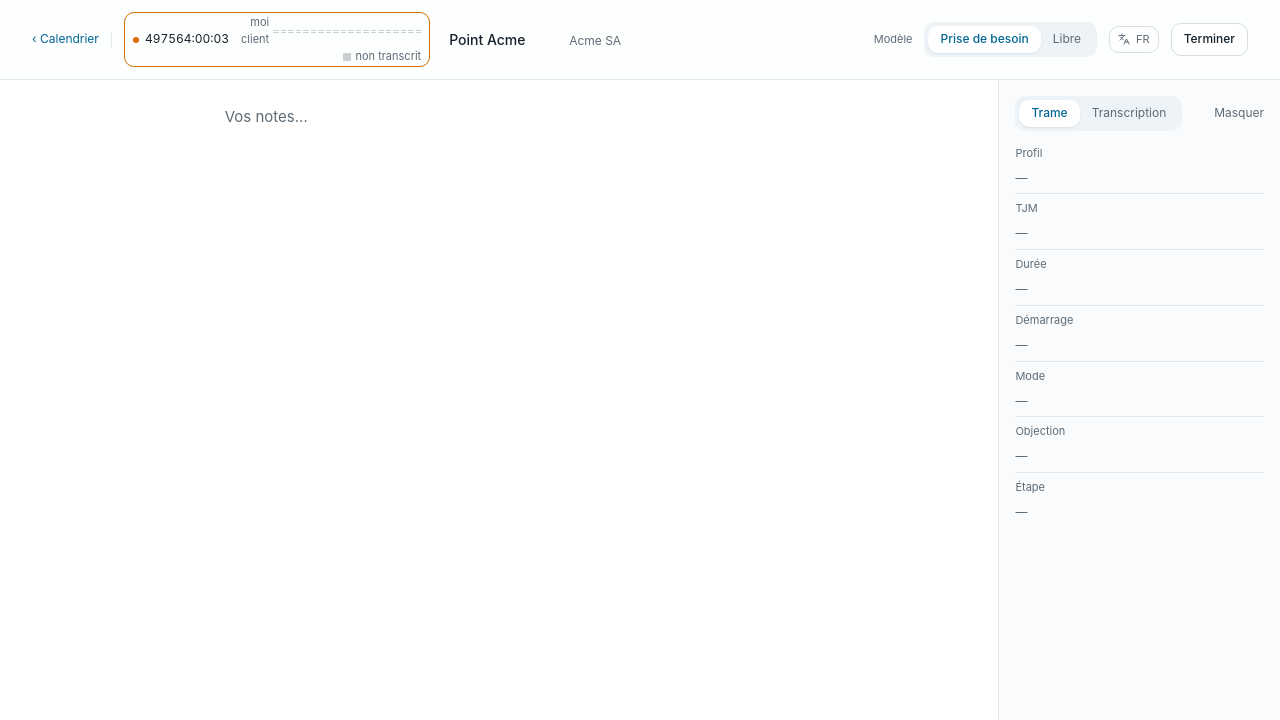
Test case: the column opens on the slate and the transcript is asked for › the promise the rep needs when they turn it on
Expected: the button "Terminer" is shown, [1171,23,1248,56]
Click the button "Transcription". click: (1129, 113)
box: [1080,100,1178,127]
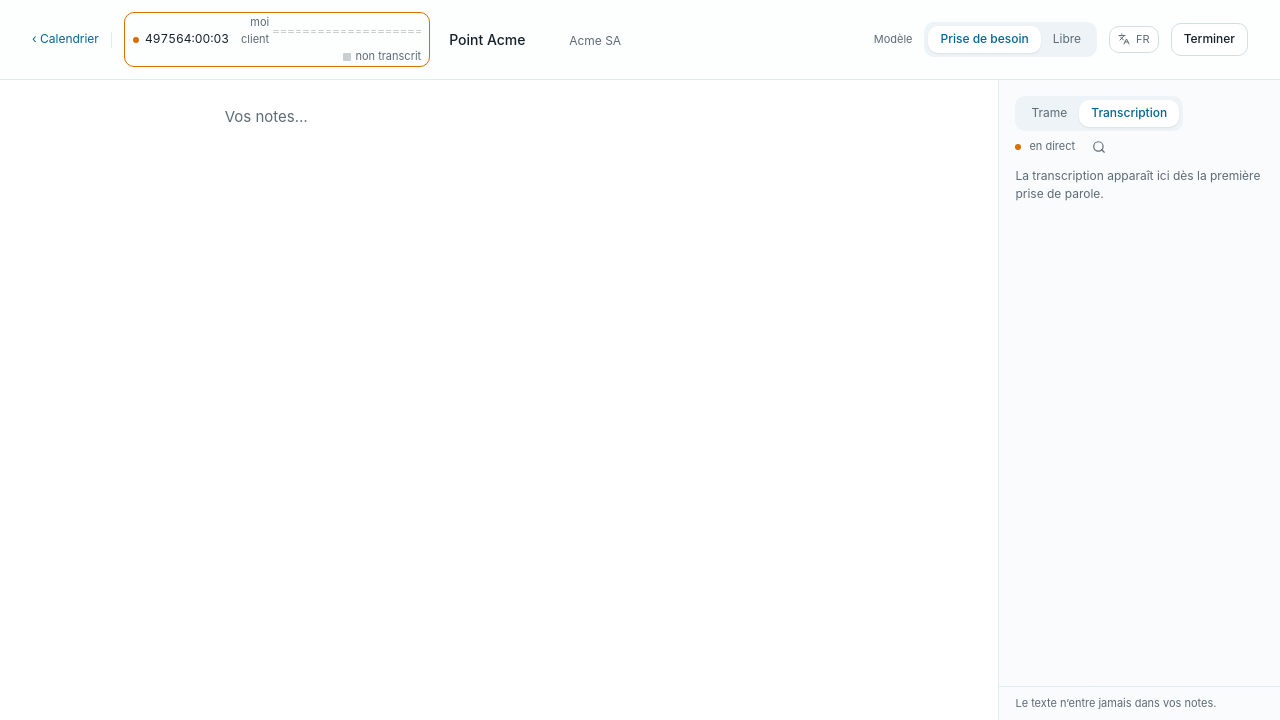
Expected: the text "Le texte n’entre jamais dans vos notes." is shown, [999,686,1279,719]
Expected: the text "en direct" is shown, [1029,138,1075,155]
